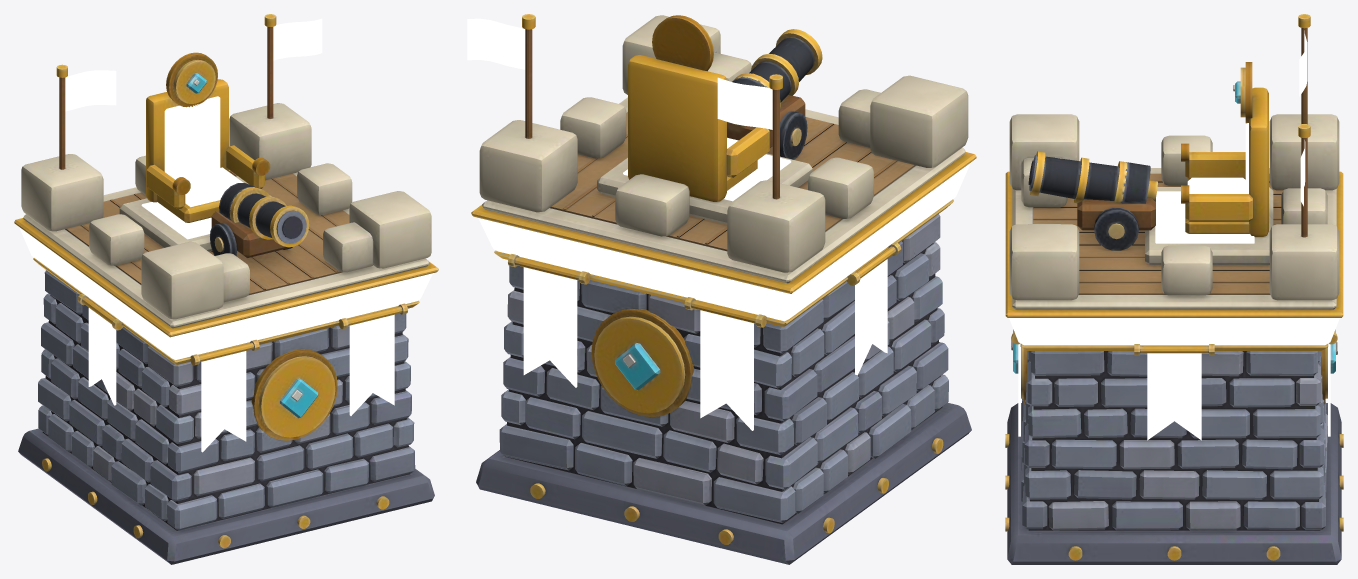
The model's file is battlestation.glb.
The picture shows the model from 3 angles, left to right: view 1: azimuth 30°, elevation 25°; view 2: azimuth 150°, elevation 25°; view 3: azimuth 270°, elevation 25°; orthographic projection. The views are drawn at different scales.
Visible parts, largest first — view 1: body, team_paint, team_cloth, turret; view 2: body, team_cloth, team_paint, turret; view 3: body, team_paint, turret, team_cloth.
Boxes of the visible parts, x1,y1,x2,y2 form: body: (14, 14, 438, 564); team_paint: (20, 96, 432, 360); team_cloth: (65, 18, 394, 452); turret: (210, 183, 309, 257); body: (471, 14, 976, 564); team_cloth: (467, 18, 887, 430); team_paint: (478, 137, 969, 321); turret: (727, 29, 822, 159); body: (1005, 14, 1343, 564); team_paint: (1009, 123, 1339, 345); turret: (1028, 151, 1157, 250); team_cloth: (1018, 30, 1330, 440).
Bounding box in the file's own units: 4.39 × 5.75 × 4.09.
2 materials, 1 textured.
